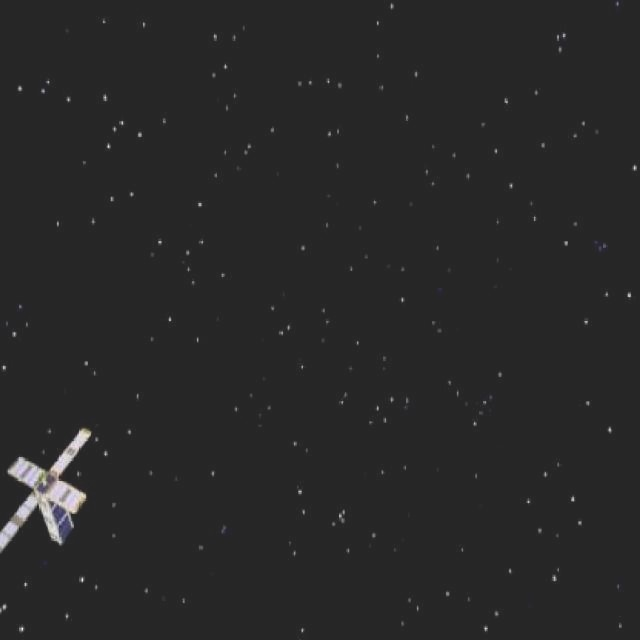satellite: (0, 427, 106, 558)
